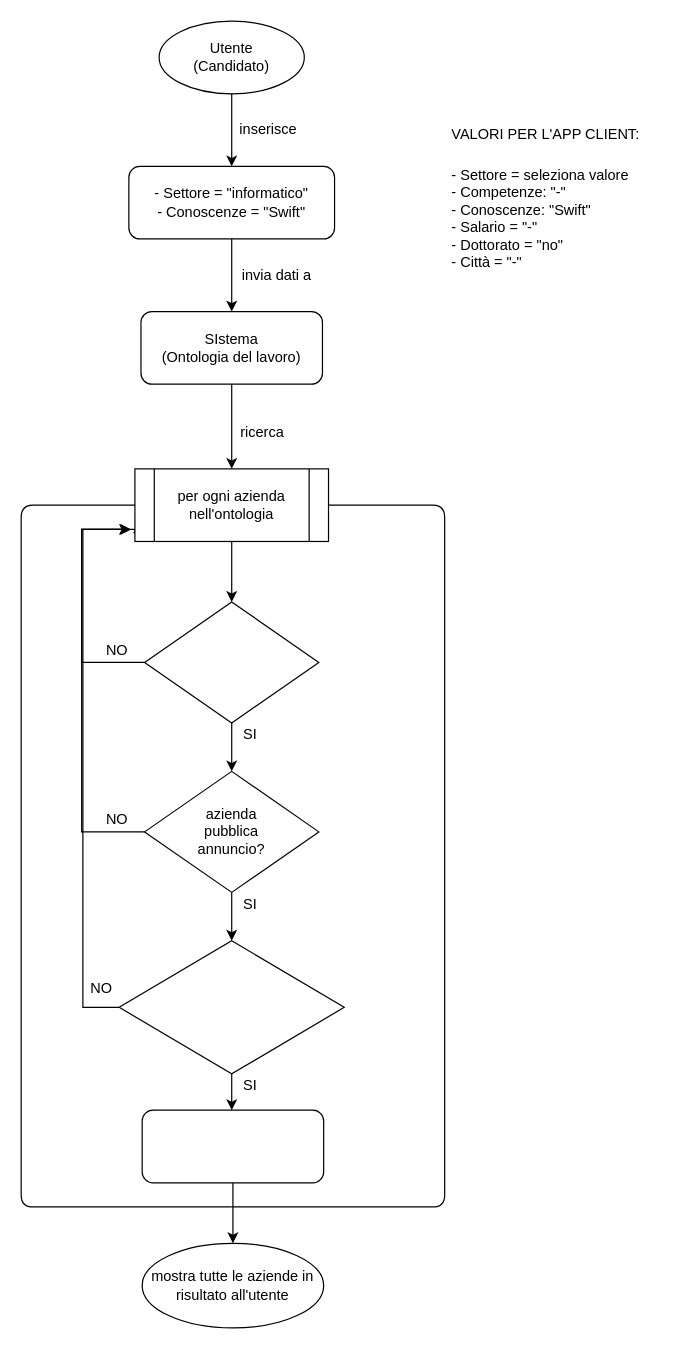
Some shapes in this 697 by 1349 pixel diagram are drawn without their labels. The box of each missing label's shape, as (x1, y1, x2, y2) in pixels:
aggiungi azienda al risultato: (141, 1109, 324, 1183)
annuncio ha conoscenze "Swift"?: (118, 940, 344, 1074)
azienda ha settore "Informatico"?: (143, 601, 319, 723)
